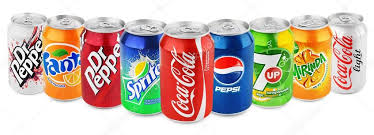can: (157, 13, 215, 122), (115, 13, 168, 121), (38, 10, 86, 105), (75, 15, 123, 108), (208, 16, 250, 118), (250, 12, 291, 110), (326, 11, 367, 102), (290, 13, 331, 102), (4, 10, 47, 89)
